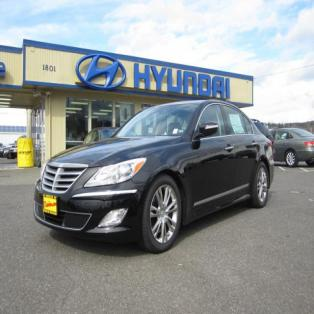Auto: (31, 94, 276, 258)
